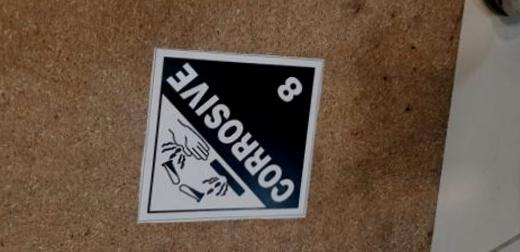corrosive: (135, 47, 328, 223)
